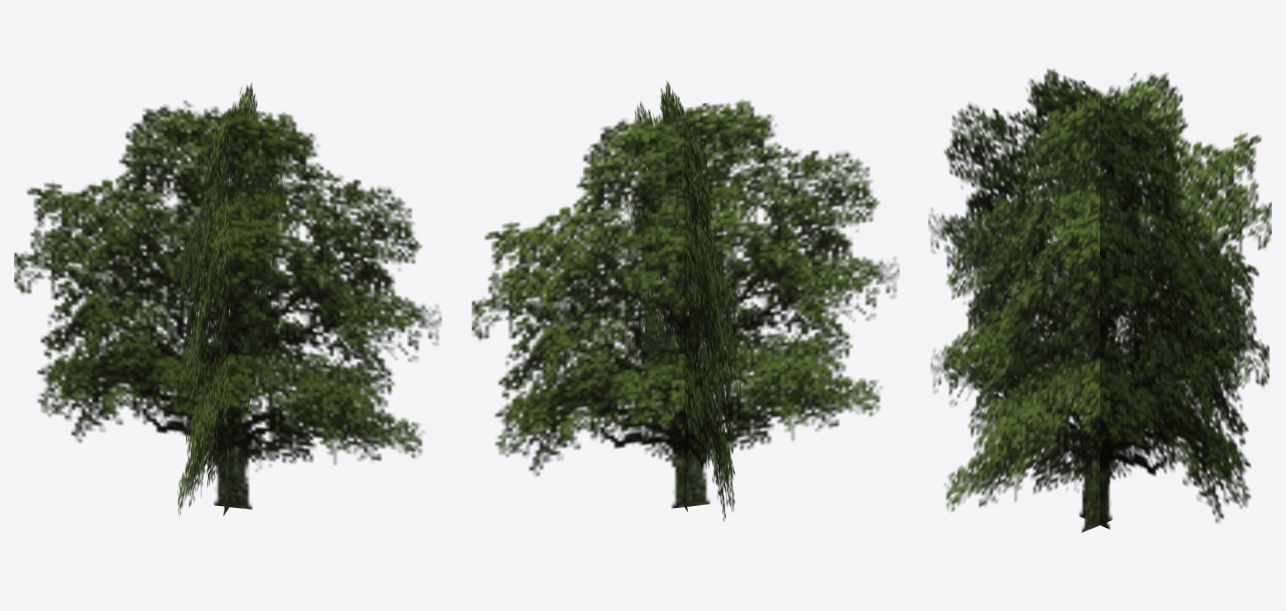
File: tree107.glb
3 renders of one model, left to right at view 1: azimuth 30°, elevation 25°; view 2: azimuth 150°, elevation 25°; view 3: azimuth 270°, elevation 25°, orthographic. The views are drawn at different scales.
Parts seen in each view (by area): view 1: tree107; view 2: tree107; view 3: tree107.
Part boxes in pixels (x1=…): tree107: x1=14, y1=83, x2=441, y2=515; tree107: x1=471, y1=81, x2=899, y2=521; tree107: x1=928, y1=68, x2=1271, y2=532.
Bounding box in the file's own units: 2.78 × 4 × 2.78.
1 material, 1 textured.
